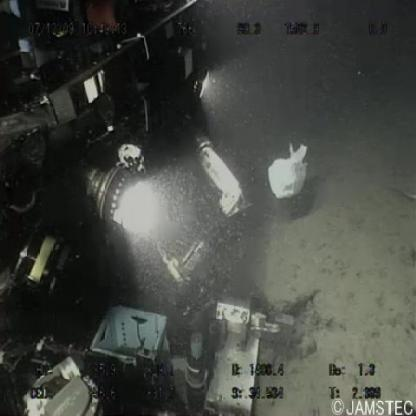Rov: (1, 1, 328, 414)
Rác: (263, 138, 312, 204)
